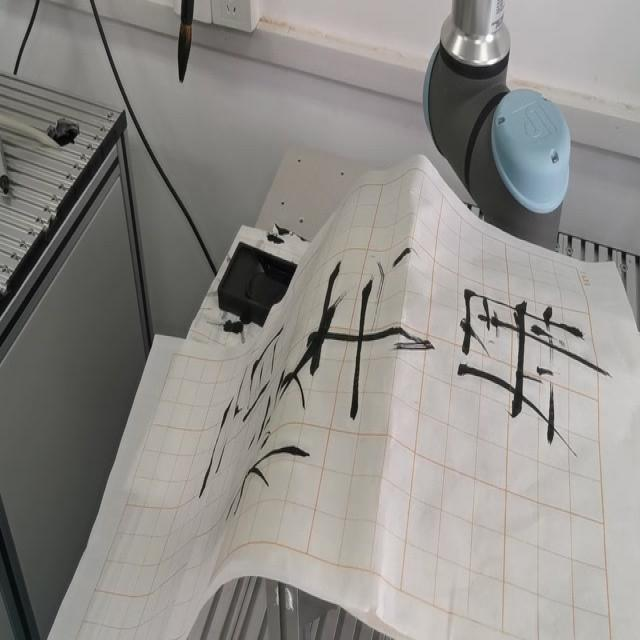head: (162, 22, 203, 98)
inkstone: (213, 240, 302, 326)
